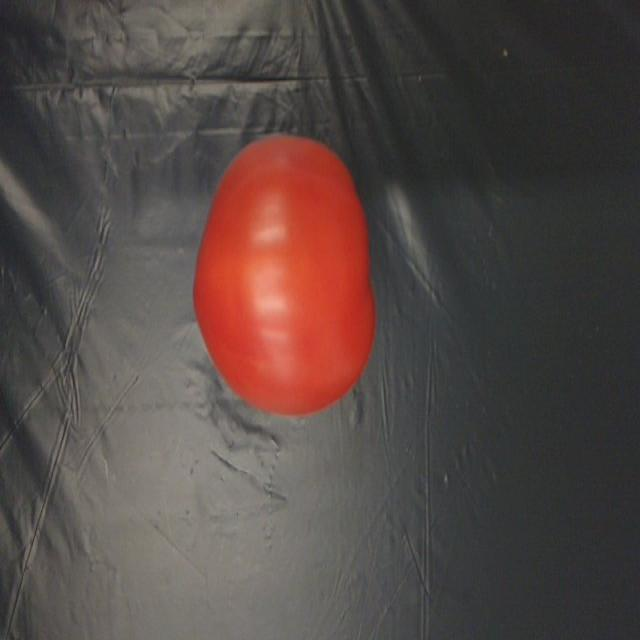kirmizi: (191, 118, 383, 406)
